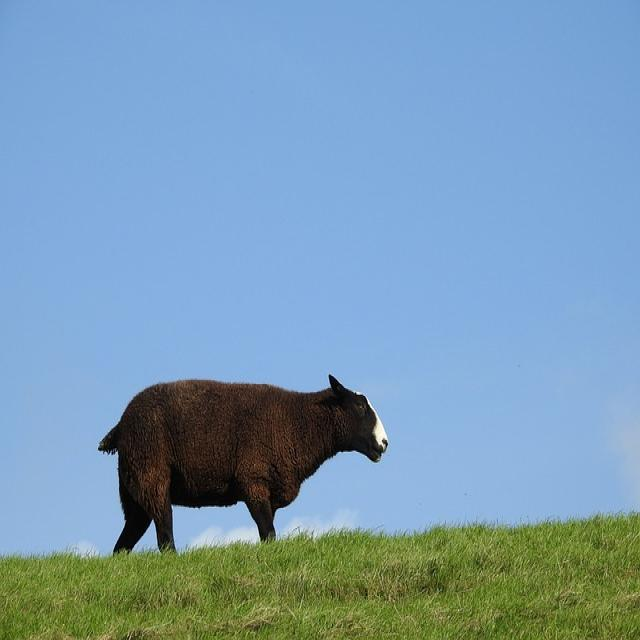goat: (98, 376, 390, 555)
